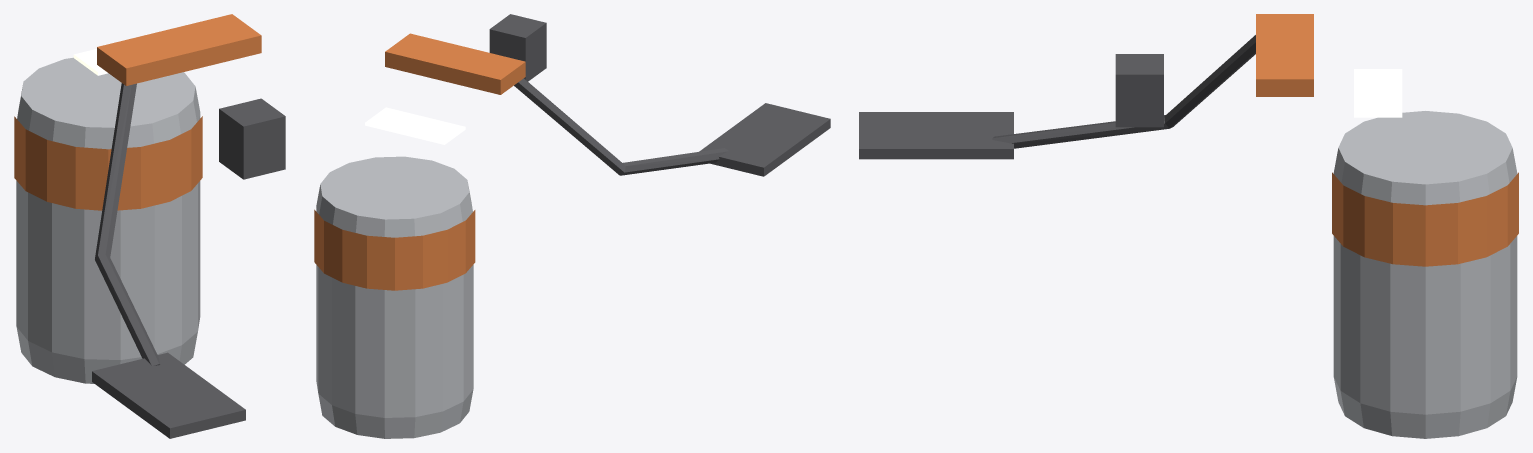
Rendered from underground-mine-and-shaft-works-self-rescuer-71f38b32.glb.
3 renders of one model, left to right at view 1: azimuth 30°, elevation 25°; view 2: azimuth 150°, elevation 25°; view 3: azimuth 270°, elevation 25°, orthographic. The views are drawn at different scales.
Parts seen in each view (by area): view 1: self-rescuer; view 2: self-rescuer; view 3: self-rescuer.
Part boxes in pixels (x1,y1,x2,y2): self-rescuer: (14, 14, 285, 438); self-rescuer: (314, 14, 830, 438); self-rescuer: (859, 14, 1518, 438).
Bounding box in the file's own units: 0.363 × 0.425 × 0.6815.
